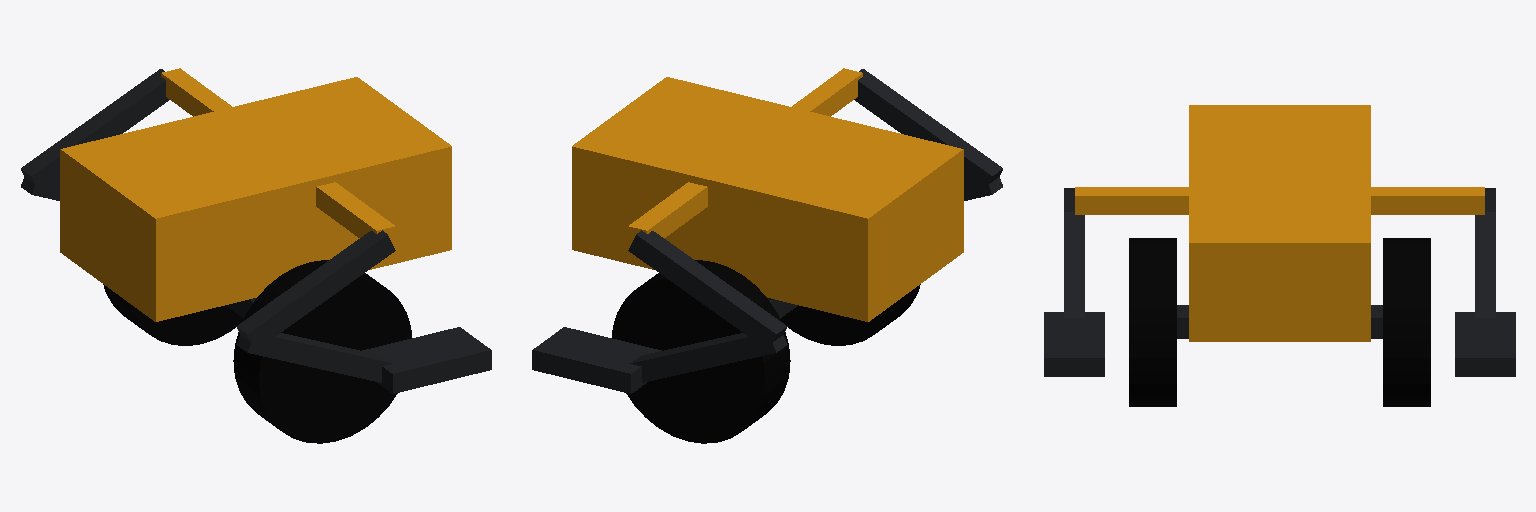
The robot description file, URDF, robot "wheel_leg_robot":
<robot name="wheel_leg_robot">
  <material name="body_color">
    <color rgba="0.85 0.58 0.10 1" />
  </material>
  <material name="wheel_color">
    <color rgba="0.055 0.055 0.055 1" />
  </material>
  <material name="limb_color">
    <color rgba="0.16 0.17 0.18 1" />
  </material>
  <link name="base_link">
    <visual>
      <origin xyz="0 0 0" />
      <geometry>
        <box size="0.54 0.3 0.18" />
      </geometry>
      <material name="body_color" />
    </visual>
    <collision>
      <origin xyz="0 0 0" />
      <geometry>
        <box size="0.54 0.3 0.18" />
      </geometry>
    </collision>
    <inertial>
      <origin xyz="0 0 0" />
      <mass value="4.0" />
      <inertia ixx="0.040799999999999996" ixy="0" ixz="0" iyy="0.108" iyz="0" izz="0.1272" />
    </inertial>
    
    <visual>
      <origin xyz="0.04 0 0.06" />
      <geometry>
        <box size="0.035 0.68 0.035" />
      </geometry>
      <material name="body_color" />
    </visual>
    <collision>
      <origin xyz="0.04 0 0.06" />
      <geometry>
        <box size="0.035 0.68 0.035" />
      </geometry>
    </collision>
  </link>
  <gazebo reference="base_link">
    <visual>
      <material>
        <ambient>0.85 0.58 0.10 1</ambient>
        <diffuse>0.85 0.58 0.10 1</diffuse>
        <specular>0.08 0.08 0.08 1</specular>
      </material>
    </visual>
  </gazebo>
  <link name="wheel_carrier">
    <visual>
      <origin xyz="0 0 0" />
      <geometry>
        <box size="0.05 0.42 0.04" />
      </geometry>
      <material name="limb_color" />
    </visual>
    <collision>
      <origin xyz="0 0 0" />
      <geometry>
        <box size="0.05 0.42 0.04" />
      </geometry>
    </collision>
    <inertial>
      <origin xyz="0 0 0" />
      <mass value="0.4" />
      <inertia ixx="0.005933333333333332" ixy="0" ixz="0" iyy="0.0001366666666666667" iyz="0" izz="0.0059633333333333335" />
    </inertial>
    
    <visual>
      <origin xyz="0 0 0.045" />
      <geometry>
        <box size="0.05 0.05 0.09" />
      </geometry>
      <material name="limb_color" />
    </visual>
    <collision>
      <origin xyz="0 0 0.045" />
      <geometry>
        <box size="0.05 0.05 0.09" />
      </geometry>
    </collision>
  </link>
  <gazebo reference="wheel_carrier">
    <visual>
      <material>
        <ambient>0.16 0.17 0.18 1</ambient>
        <diffuse>0.16 0.17 0.18 1</diffuse>
        <specular>0.08 0.08 0.08 1</specular>
      </material>
    </visual>
  </gazebo>
  <joint name="wheel_lift_joint" type="prismatic">
    <parent link="base_link" />
    <child link="wheel_carrier" />
    <origin xyz="0 0 -0.18" />
    <axis xyz="0 0 1" />
    <limit effort="10.0" lower="0" upper="0.22" velocity="1.0" />
  </joint>
  <link name="left_wheel">
    <visual>
      
      <origin rpy="1.5707963267948966 0 0" />
      <geometry>
        <cylinder length="0.08" radius="0.14" />
      </geometry>
      <material name="wheel_color" />
    </visual>
    <collision>
      <origin rpy="1.5707963267948966 0 0" />
      <geometry>
        <cylinder length="0.08" radius="0.14" />
      </geometry>
    </collision>
    <inertial>
      <mass value="0.5" />
      <inertia ixx="0.002716666666666667" ixy="0" ixz="0" iyy="0.004900000000000001" iyz="0" izz="0.002716666666666667" />
    </inertial>
  </link>
  <gazebo reference="left_wheel">
    <visual>
      <material>
        <ambient>0.055 0.055 0.055 1</ambient>
        <diffuse>0.055 0.055 0.055 1</diffuse>
        <specular>0.08 0.08 0.08 1</specular>
      </material>
    </visual>
  </gazebo>
  <joint name="left_wheel_joint" type="continuous">
    <parent link="wheel_carrier" />
    <child link="left_wheel" />
    <origin xyz="0 0.21 0" />
    <axis xyz="0 1 0" />
    <limit effort="10.0" velocity="8.0" />
  </joint>
  <link name="left_hip_yaw">
    <inertial>
      <mass value="0.001" />
      <inertia ixx="0.000001" ixy="0" ixz="0" iyy="0.000001" iyz="0" izz="0.000001" />
    </inertial>
  </link>
  <joint name="left_hip_yaw_joint" type="revolute">
    <parent link="base_link" />
    <child link="left_hip_yaw" />
    <origin xyz="0.04 0.34 0.06" />
    <axis xyz="0 0 1" />
    <limit effort="10.0" lower="-1.57" upper="1.57" velocity="12.0" />
  </joint>
  <link name="left_upper_leg">
    <visual>
      <origin xyz="0 0 -0.14" />
      <geometry>
        <box size="0.035 0.035 0.28" />
      </geometry>
      <material name="limb_color" />
    </visual>
    <collision>
      <origin xyz="0 0 -0.14" />
      <geometry>
        <box size="0.035 0.035 0.28" />
      </geometry>
    </collision>
    <inertial>
      <origin xyz="0 0 -0.14" />
      <mass value="0.25" />
      <inertia ixx="0.001658854166666667" ixy="0" ixz="0" iyy="0.001658854166666667" iyz="0" izz="5.1041666666666676e-05" />
    </inertial>
  </link>
  <gazebo reference="left_upper_leg">
    <visual>
      <material>
        <ambient>0.16 0.17 0.18 1</ambient>
        <diffuse>0.16 0.17 0.18 1</diffuse>
        <specular>0.08 0.08 0.08 1</specular>
      </material>
    </visual>
  </gazebo>
  <joint name="left_shoulder_joint" type="revolute">
    <parent link="left_hip_yaw" />
    <child link="left_upper_leg" />
    <origin rpy="0 1.15 0" />
    <axis xyz="0 1 0" />
    <limit effort="10.0" lower="-1.57" upper="1.57" velocity="12.0" />
  </joint>
  <link name="left_lower_leg">
    <visual>
      <origin xyz="0 0 -0.14" />
      <geometry>
        <box size="0.035 0.035 0.28" />
      </geometry>
      <material name="limb_color" />
    </visual>
    <collision>
      <origin xyz="0 0 -0.14" />
      <geometry>
        <box size="0.035 0.035 0.28" />
      </geometry>
    </collision>
    <inertial>
      <origin xyz="0 0 -0.14" />
      <mass value="0.25" />
      <inertia ixx="0.001658854166666667" ixy="0" ixz="0" iyy="0.001658854166666667" iyz="0" izz="5.1041666666666676e-05" />
    </inertial>
  </link>
  <gazebo reference="left_lower_leg">
    <visual>
      <material>
        <ambient>0.16 0.17 0.18 1</ambient>
        <diffuse>0.16 0.17 0.18 1</diffuse>
        <specular>0.08 0.08 0.08 1</specular>
      </material>
    </visual>
  </gazebo>
  <joint name="left_knee_joint" type="revolute">
    <parent link="left_upper_leg" />
    <child link="left_lower_leg" />
    <origin rpy="0 -2.3 0" xyz="0 0 -0.28" />
    <axis xyz="0 1 0" />
    <limit effort="10.0" lower="-1.57" upper="1.57" velocity="12.0" />
  </joint>
  <link name="left_foot">
    <visual>
      <origin xyz="0.0725 0 0" />
      <geometry>
        <box size="0.18 0.1 0.035" />
      </geometry>
      <material name="limb_color" />
    </visual>
    <collision>
      <origin xyz="0.0725 0 0" />
      <geometry>
        <box size="0.18 0.1 0.035" />
      </geometry>
    </collision>
    <inertial>
      <origin xyz="0.0725 0 0" />
      <mass value="0.15" />
      <inertia ixx="0.00014031250000000003" ixy="0" ixz="0" iyy="0.0004203124999999999" iyz="0" izz="0.00053" />
    </inertial>
  </link>
  <gazebo reference="left_foot">
    <visual>
      <material>
        <ambient>0.16 0.17 0.18 1</ambient>
        <diffuse>0.16 0.17 0.18 1</diffuse>
        <specular>0.08 0.08 0.08 1</specular>
      </material>
    </visual>
  </gazebo>
  <joint name="left_ankle_joint" type="revolute">
    <parent link="left_lower_leg" />
    <child link="left_foot" />
    <origin rpy="0 1.15 0" xyz="0 0 -0.28" />
    <axis xyz="0 1 0" />
    <limit effort="10.0" lower="-1.57" upper="1.57" velocity="12.0" />
  </joint>
  <link name="right_wheel">
    <visual>
      
      <origin rpy="1.5707963267948966 0 0" />
      <geometry>
        <cylinder length="0.08" radius="0.14" />
      </geometry>
      <material name="wheel_color" />
    </visual>
    <collision>
      <origin rpy="1.5707963267948966 0 0" />
      <geometry>
        <cylinder length="0.08" radius="0.14" />
      </geometry>
    </collision>
    <inertial>
      <mass value="0.5" />
      <inertia ixx="0.002716666666666667" ixy="0" ixz="0" iyy="0.004900000000000001" iyz="0" izz="0.002716666666666667" />
    </inertial>
  </link>
  <gazebo reference="right_wheel">
    <visual>
      <material>
        <ambient>0.055 0.055 0.055 1</ambient>
        <diffuse>0.055 0.055 0.055 1</diffuse>
        <specular>0.08 0.08 0.08 1</specular>
      </material>
    </visual>
  </gazebo>
  <joint name="right_wheel_joint" type="continuous">
    <parent link="wheel_carrier" />
    <child link="right_wheel" />
    <origin xyz="0 -0.21 0" />
    <axis xyz="0 1 0" />
    <limit effort="10.0" velocity="8.0" />
  </joint>
  <link name="right_hip_yaw">
    <inertial>
      <mass value="0.001" />
      <inertia ixx="0.000001" ixy="0" ixz="0" iyy="0.000001" iyz="0" izz="0.000001" />
    </inertial>
  </link>
  <joint name="right_hip_yaw_joint" type="revolute">
    <parent link="base_link" />
    <child link="right_hip_yaw" />
    <origin xyz="0.04 -0.34 0.06" />
    <axis xyz="0 0 1" />
    <limit effort="10.0" lower="-1.57" upper="1.57" velocity="12.0" />
  </joint>
  <link name="right_upper_leg">
    <visual>
      <origin xyz="0 0 -0.14" />
      <geometry>
        <box size="0.035 0.035 0.28" />
      </geometry>
      <material name="limb_color" />
    </visual>
    <collision>
      <origin xyz="0 0 -0.14" />
      <geometry>
        <box size="0.035 0.035 0.28" />
      </geometry>
    </collision>
    <inertial>
      <origin xyz="0 0 -0.14" />
      <mass value="0.25" />
      <inertia ixx="0.001658854166666667" ixy="0" ixz="0" iyy="0.001658854166666667" iyz="0" izz="5.1041666666666676e-05" />
    </inertial>
  </link>
  <gazebo reference="right_upper_leg">
    <visual>
      <material>
        <ambient>0.16 0.17 0.18 1</ambient>
        <diffuse>0.16 0.17 0.18 1</diffuse>
        <specular>0.08 0.08 0.08 1</specular>
      </material>
    </visual>
  </gazebo>
  <joint name="right_shoulder_joint" type="revolute">
    <parent link="right_hip_yaw" />
    <child link="right_upper_leg" />
    <origin rpy="0 1.15 0" />
    <axis xyz="0 1 0" />
    <limit effort="10.0" lower="-1.57" upper="1.57" velocity="12.0" />
  </joint>
  <link name="right_lower_leg">
    <visual>
      <origin xyz="0 0 -0.14" />
      <geometry>
        <box size="0.035 0.035 0.28" />
      </geometry>
      <material name="limb_color" />
    </visual>
    <collision>
      <origin xyz="0 0 -0.14" />
      <geometry>
        <box size="0.035 0.035 0.28" />
      </geometry>
    </collision>
    <inertial>
      <origin xyz="0 0 -0.14" />
      <mass value="0.25" />
      <inertia ixx="0.001658854166666667" ixy="0" ixz="0" iyy="0.001658854166666667" iyz="0" izz="5.1041666666666676e-05" />
    </inertial>
  </link>
  <gazebo reference="right_lower_leg">
    <visual>
      <material>
        <ambient>0.16 0.17 0.18 1</ambient>
        <diffuse>0.16 0.17 0.18 1</diffuse>
        <specular>0.08 0.08 0.08 1</specular>
      </material>
    </visual>
  </gazebo>
  <joint name="right_knee_joint" type="revolute">
    <parent link="right_upper_leg" />
    <child link="right_lower_leg" />
    <origin rpy="0 -2.3 0" xyz="0 0 -0.28" />
    <axis xyz="0 1 0" />
    <limit effort="10.0" lower="-1.57" upper="1.57" velocity="12.0" />
  </joint>
  <link name="right_foot">
    <visual>
      <origin xyz="0.0725 0 0" />
      <geometry>
        <box size="0.18 0.1 0.035" />
      </geometry>
      <material name="limb_color" />
    </visual>
    <collision>
      <origin xyz="0.0725 0 0" />
      <geometry>
        <box size="0.18 0.1 0.035" />
      </geometry>
    </collision>
    <inertial>
      <origin xyz="0.0725 0 0" />
      <mass value="0.15" />
      <inertia ixx="0.00014031250000000003" ixy="0" ixz="0" iyy="0.0004203124999999999" iyz="0" izz="0.00053" />
    </inertial>
  </link>
  <gazebo reference="right_foot">
    <visual>
      <material>
        <ambient>0.16 0.17 0.18 1</ambient>
        <diffuse>0.16 0.17 0.18 1</diffuse>
        <specular>0.08 0.08 0.08 1</specular>
      </material>
    </visual>
  </gazebo>
  <joint name="right_ankle_joint" type="revolute">
    <parent link="right_lower_leg" />
    <child link="right_foot" />
    <origin rpy="0 1.15 0" xyz="0 0 -0.28" />
    <axis xyz="0 1 0" />
    <limit effort="10.0" lower="-1.57" upper="1.57" velocity="12.0" />
  </joint>
  
  <gazebo>
    <static>false</static>
    <plugin name="wheel_leg_control" filename="libwheel_leg_control.so" />
  </gazebo>
</robot>

--- Facts derived from the render (not from the file) ---
The picture shows the robot from 3 angles, left to right: view 1: azimuth 30°, elevation 25°; view 2: azimuth 150°, elevation 25°; view 3: azimuth 270°, elevation 25°; orthographic projection.
Model wheel_leg_robot with 12 links and 11 joints (8 revolute, 2 continuous, 1 prismatic), rooted at base_link, posed every joint at zero.
Links seen in each view (by area): view 1: base_link, right_wheel, right_upper_leg, right_foot, left_upper_leg, right_lower_leg, left_wheel; view 2: base_link, left_wheel, left_upper_leg, left_foot, right_upper_leg, left_lower_leg, right_wheel; view 3: base_link, left_wheel, right_wheel, left_foot, right_foot, left_lower_leg, right_lower_leg, wheel_carrier.
Link boxes in pixels (<box>): base_link: <box>60,68,451,321</box>; right_wheel: <box>233,260,411,443</box>; right_upper_leg: <box>236,230,395,349</box>; right_foot: <box>362,327,491,393</box>; left_upper_leg: <box>21,69,169,192</box>; right_lower_leg: <box>236,333,393,382</box>; left_wheel: <box>103,284,243,345</box>; base_link: <box>572,68,963,321</box>; left_wheel: <box>612,260,790,443</box>; left_upper_leg: <box>628,230,787,350</box>; left_foot: <box>532,327,661,393</box>; right_upper_leg: <box>854,69,1002,192</box>; left_lower_leg: <box>630,333,787,382</box>; right_wheel: <box>780,284,920,345</box>; base_link: <box>1075,105,1484,341</box>; left_wheel: <box>1383,238,1430,406</box>; right_wheel: <box>1129,238,1176,406</box>; left_foot: <box>1455,312,1515,376</box>; right_foot: <box>1044,312,1104,376</box>; left_lower_leg: <box>1475,212,1495,317</box>; right_lower_leg: <box>1064,212,1084,317</box>; wheel_carrier: <box>1177,305,1382,338</box>.
Bounding box of the posed robot: 0.54 × 0.78 × 0.41 m (x, y, z).
Geometry: primitives only (box / cylinder / sphere), no mesh files.
